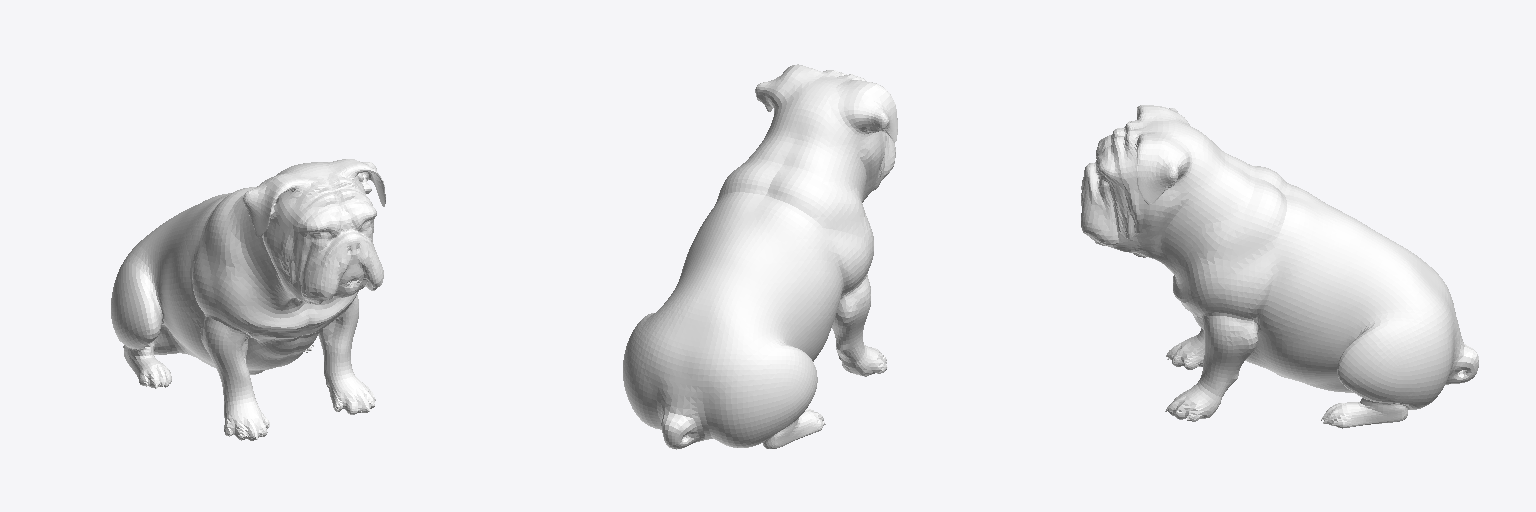
The model's file is bulldog_tri.obj.
The picture shows the model from 3 angles: view 1: azimuth 30°, elevation 25°; view 2: azimuth 150°, elevation 25°; view 3: azimuth 270°, elevation 25°; orthographic projection.
Size of the model in its own units: 0.9664 by 1.39 by 1.89.